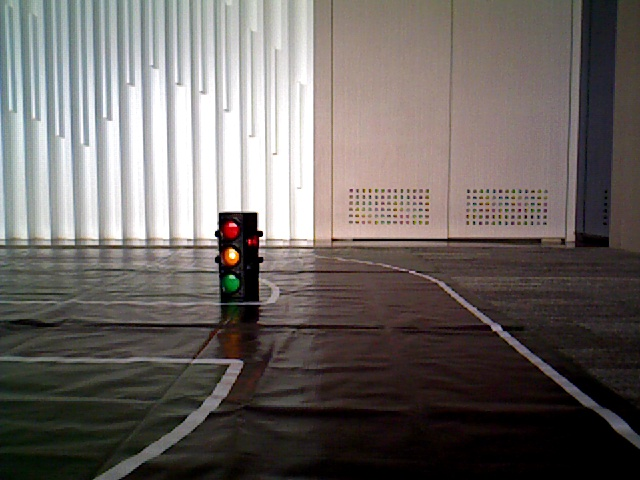yellow: (217, 216, 245, 298)
